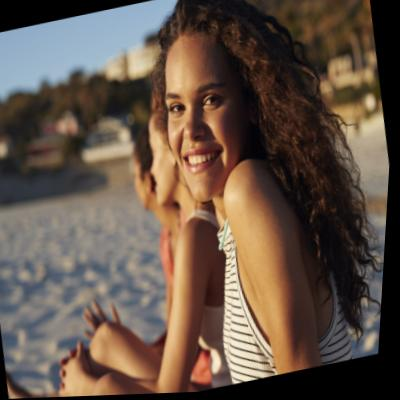happy: (150, 33, 258, 205)
